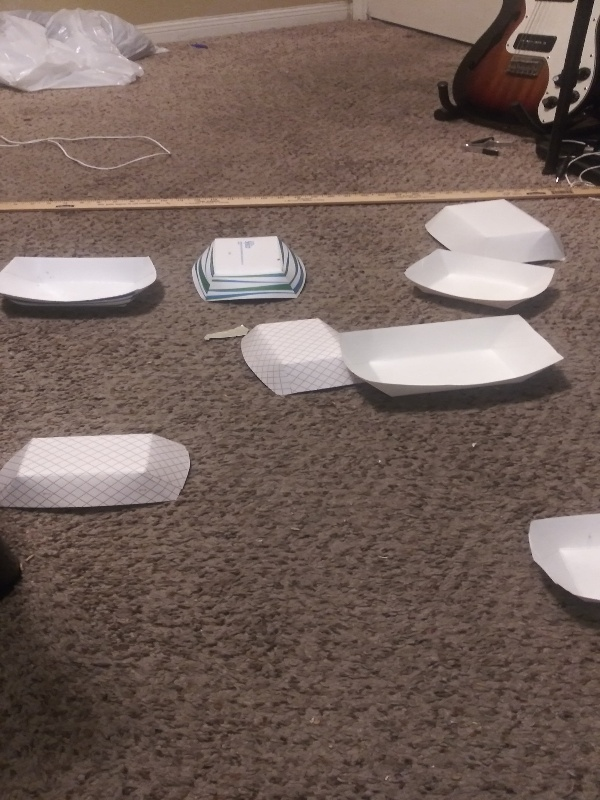plate: (335, 311, 567, 406), (1, 428, 194, 520), (233, 315, 369, 400), (1, 250, 166, 318), (401, 247, 561, 315), (419, 200, 573, 265), (190, 231, 312, 303), (521, 506, 600, 617)
